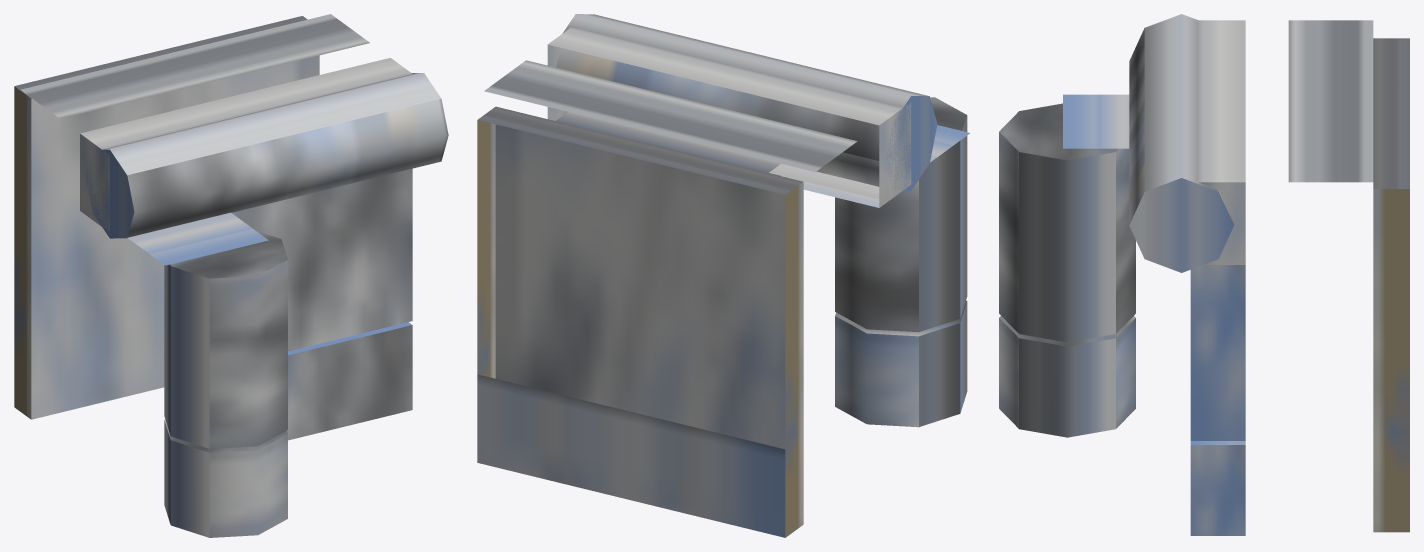
File: section-2.obj
3 renders of one model, left to right at view 1: azimuth 30°, elevation 25°; view 2: azimuth 150°, elevation 25°; view 3: azimuth 270°, elevation 25°, orthographic. The views are drawn at different scales.
Size of the model in its own units: 0.85 by 0.875 by 0.9.
